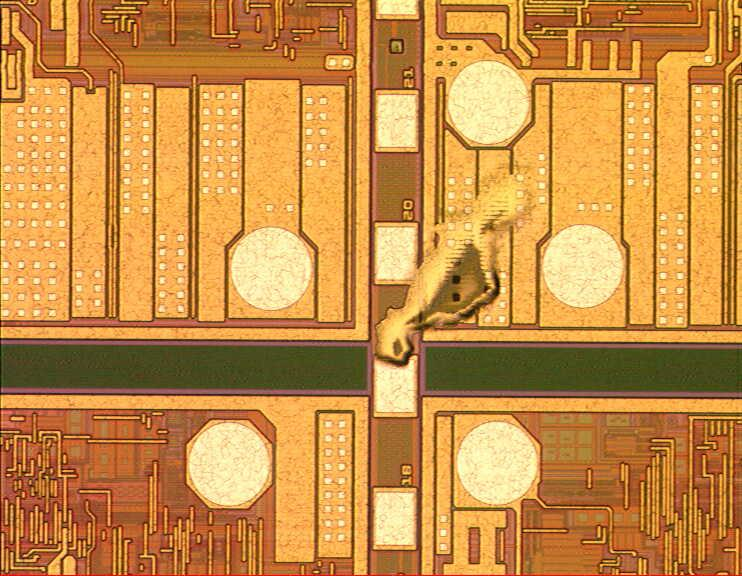BLOCK ETCH: (367, 157, 542, 377)
